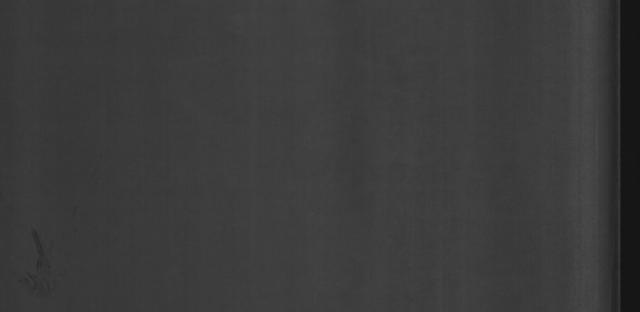water_spot: (11, 223, 67, 298)
